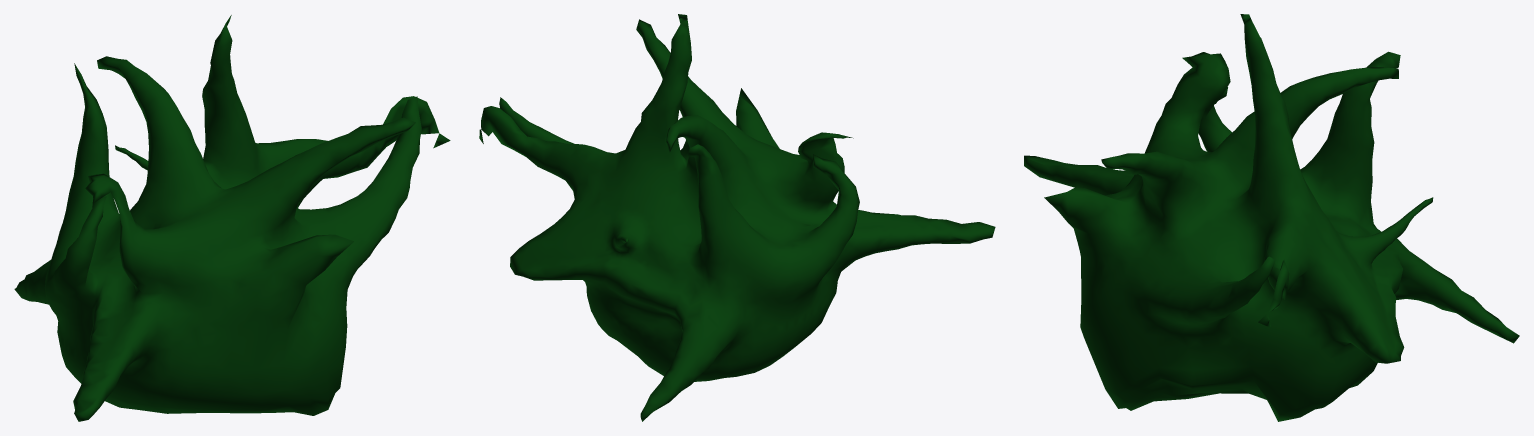
File: jump_cthulhu_006.obj
3 views of the same model, side by side, from view 1: azimuth 30°, elevation 25°; view 2: azimuth 150°, elevation 25°; view 3: azimuth 270°, elevation 25° (orthographic). The views are drawn at different scales.
Visible parts, largest first — view 1: Cube; view 2: Cube; view 3: Cube.
Boxes of the visible parts, <box> form: Cube: <box>14,15,450,421</box>; Cube: <box>479,14,995,421</box>; Cube: <box>1024,14,1519,421</box>.
Bounding box in the file's own units: 1.28 × 0.9448 × 1.08.
